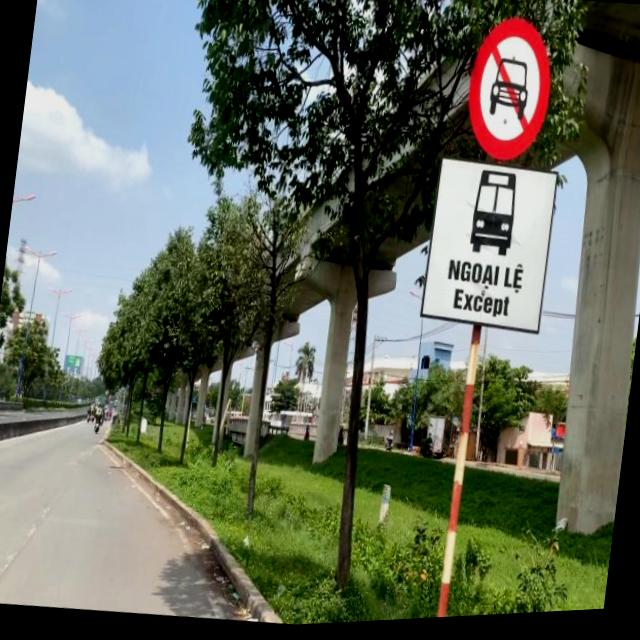Cam xe oto: (462, 15, 557, 169)
